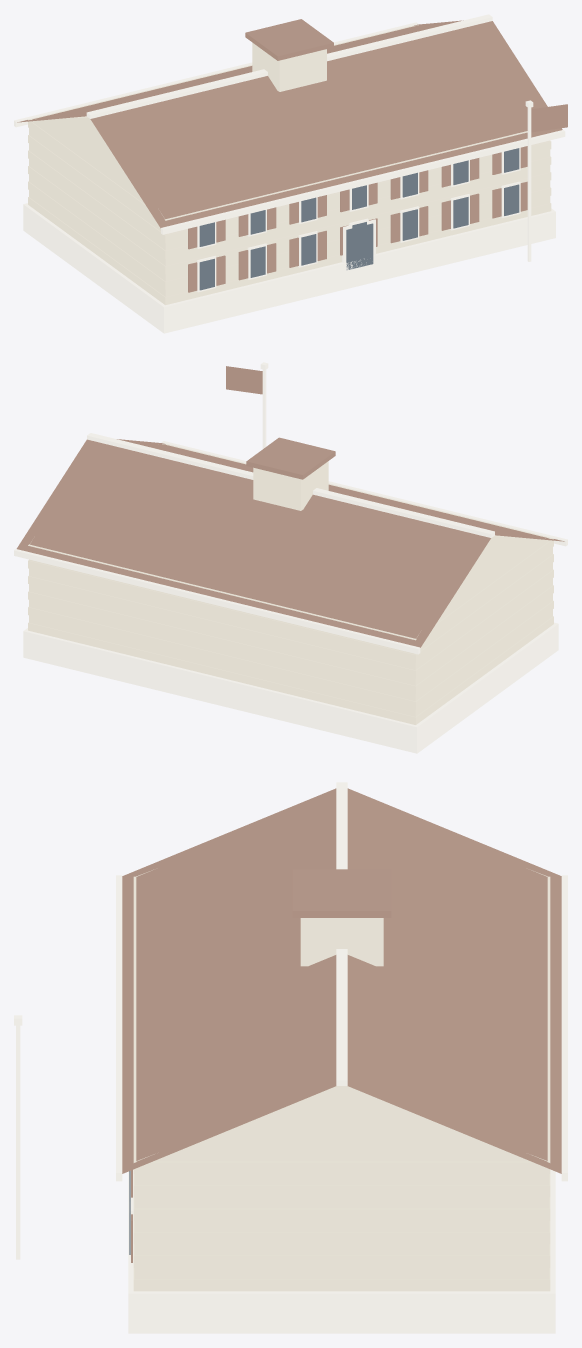
The model's file is Blender_Clubhouse_clapboard.glb.
3 views of the same model, one above another, from view 1: azimuth 30°, elevation 25°; view 2: azimuth 150°, elevation 25°; view 3: azimuth 270°, elevation 25° (orthographic). The views are drawn at different scales.
Parts seen in each view (by area): view 1: Blender_Clubhouse_clapboard; view 2: Blender_Clubhouse_clapboard; view 3: Blender_Clubhouse_clapboard.
Boxes of the visible parts, box(x1,y1,x2,y2) form: Blender_Clubhouse_clapboard: box(14, 14, 567, 333); Blender_Clubhouse_clapboard: box(14, 362, 567, 753); Blender_Clubhouse_clapboard: box(14, 782, 567, 1333).
Size of the model in its own units: 27.2 by 12.7 by 21.38.
